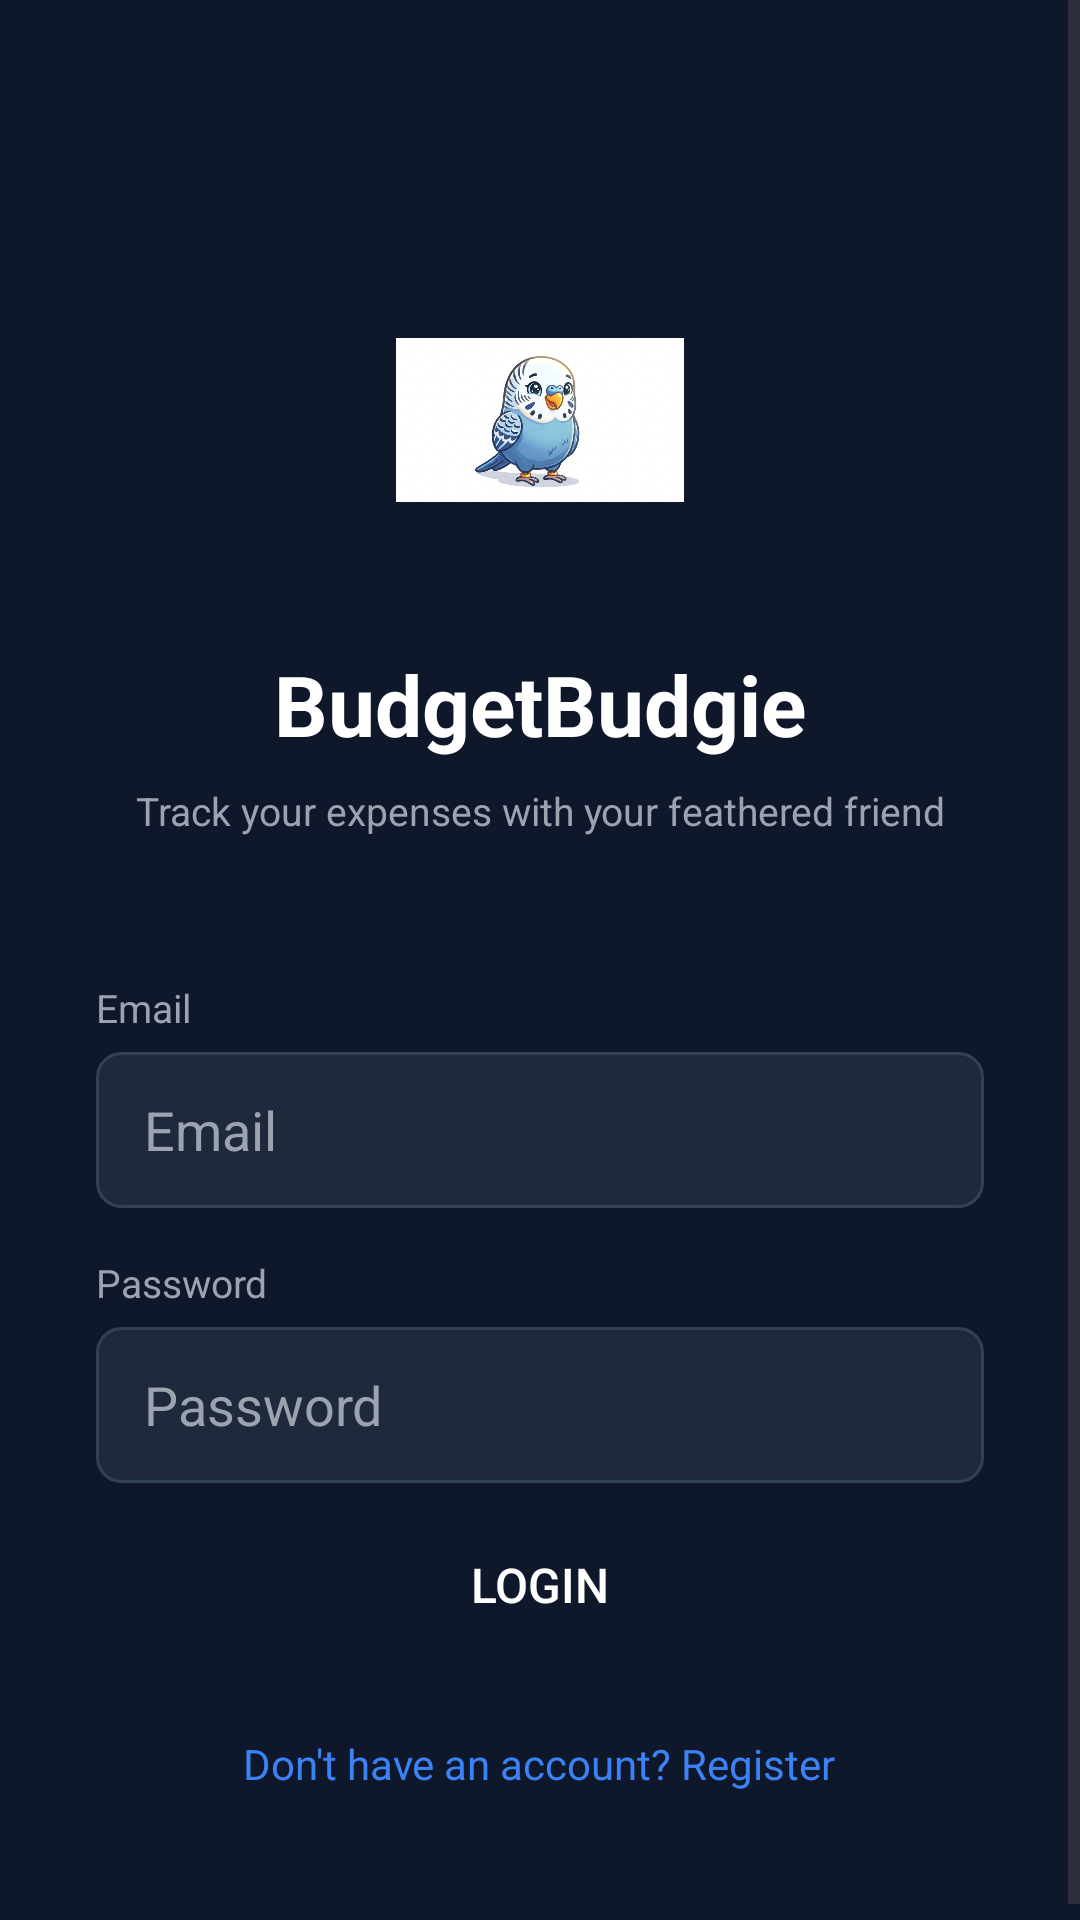

Icons on this 1080x1920 Android screen, each with its box as (x1, y1, x2, y2):
budgie happy: (396, 338, 684, 502)
